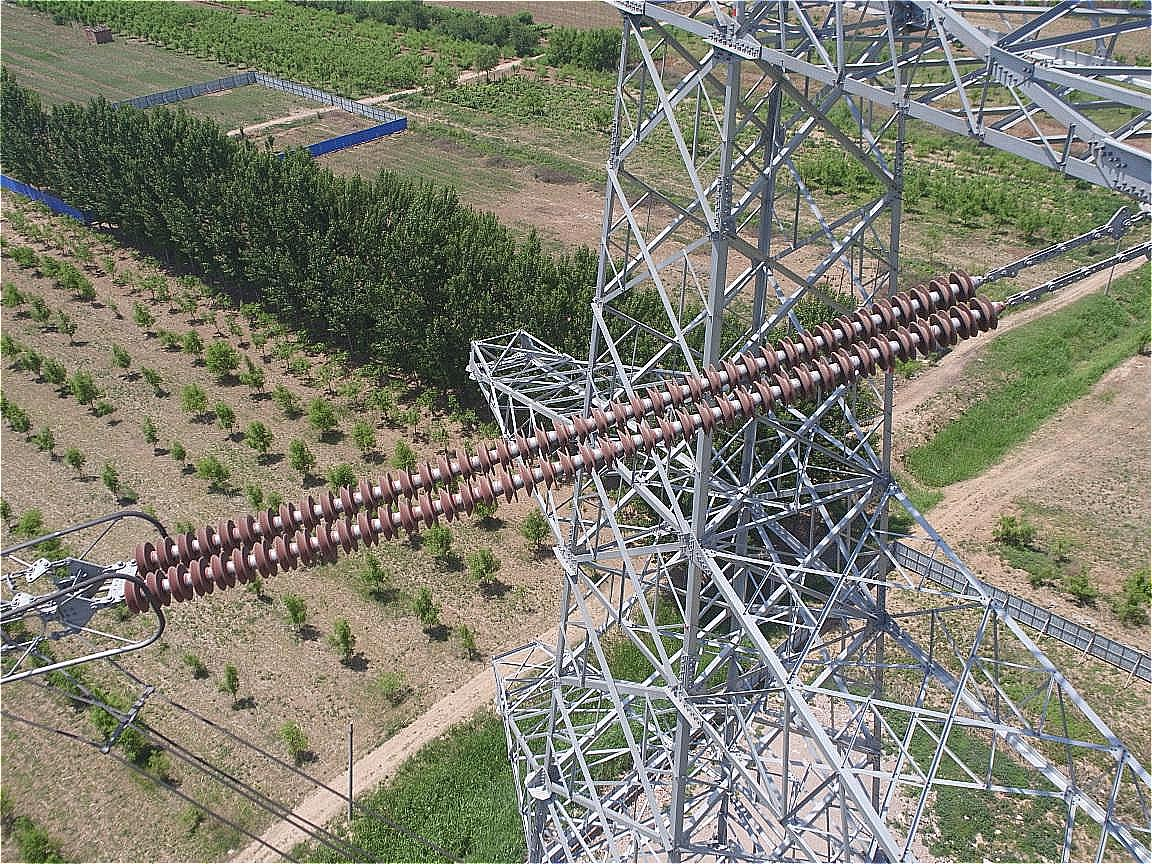insultor2: (123, 269, 1000, 616)
